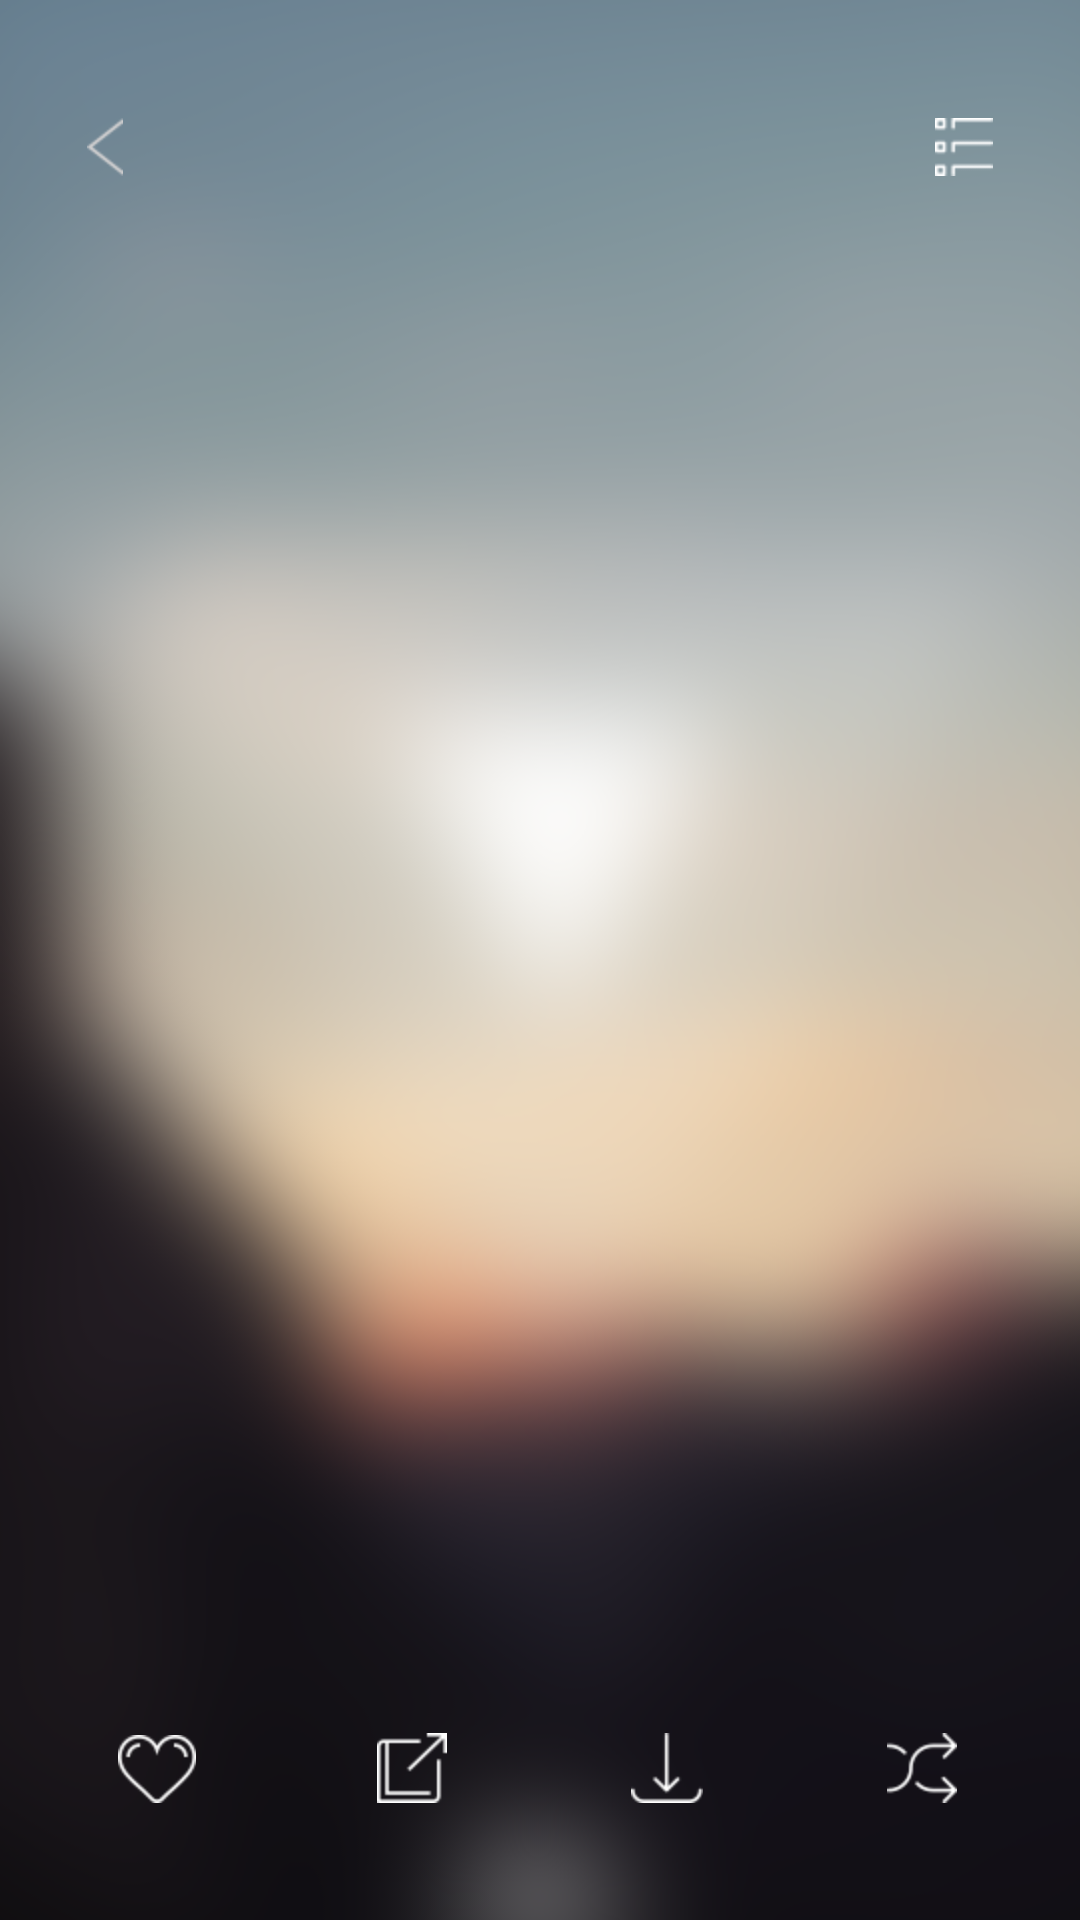

Locate icon controls on the screen. Image size 1080w x 1920h, boxes as [left=x1, top=y1, right=x2, bottom=y2].
back: [left=87, top=119, right=123, bottom=175]
